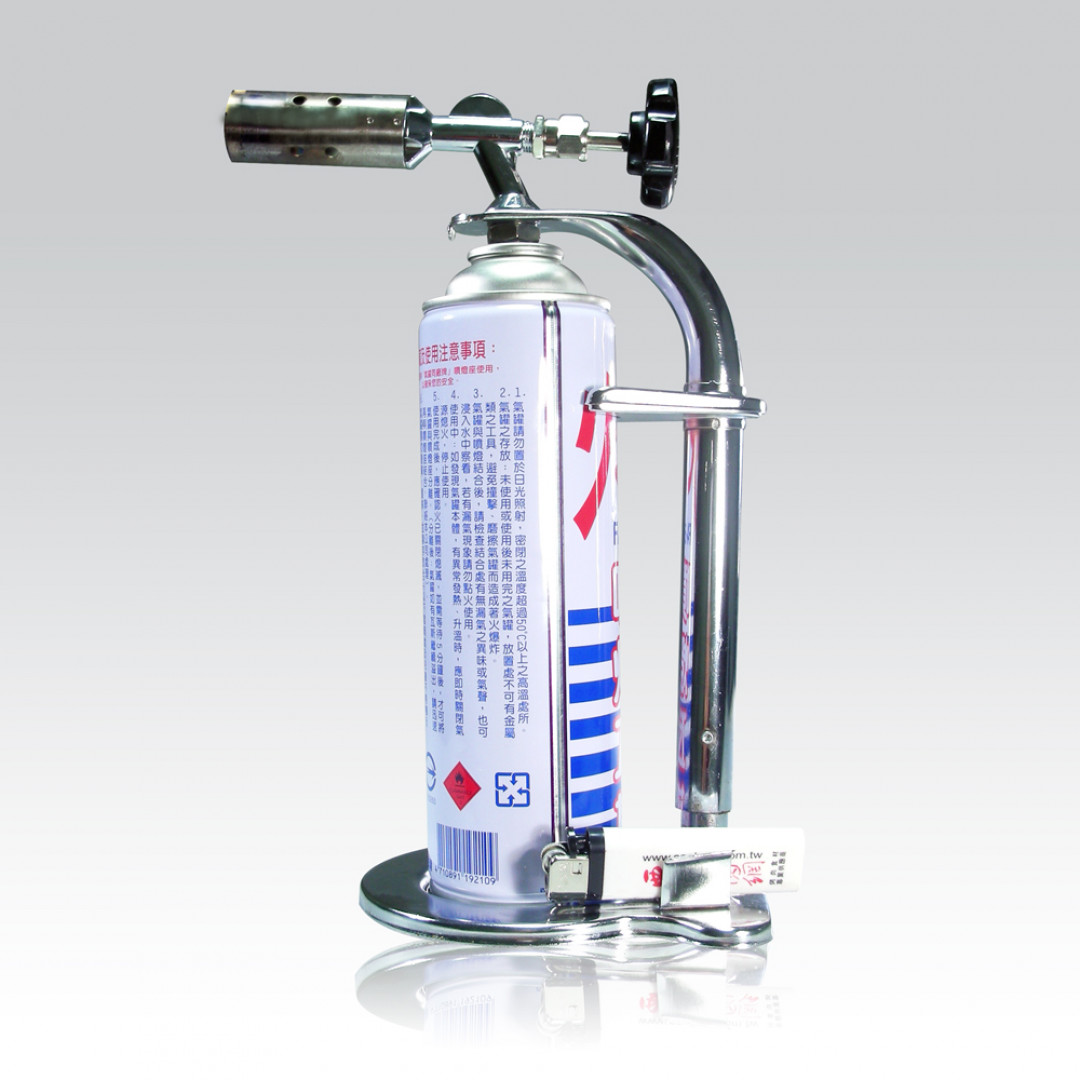gastorch: (219, 80, 789, 957)
